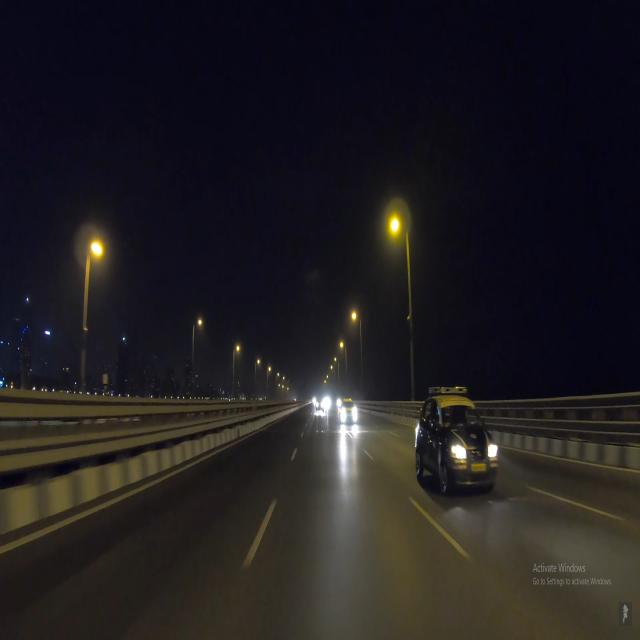headlights: (441, 435, 502, 479), (338, 403, 361, 426)
